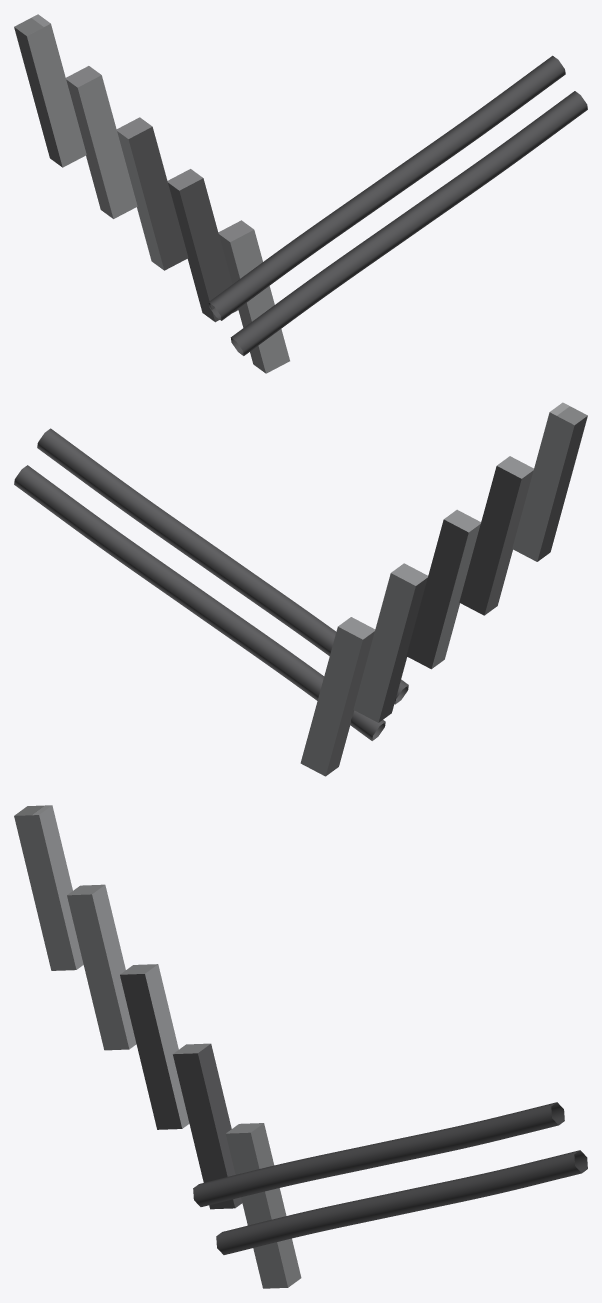
3 views of the same model, one above another, from view 1: azimuth 30°, elevation 25°; view 2: azimuth 150°, elevation 25°; view 3: azimuth 330°, elevation 25° (orthographic). The views are drawn at different scales.
Bounding box in the file's own units: 0.7777 × 0.5408 × 0.0569.
